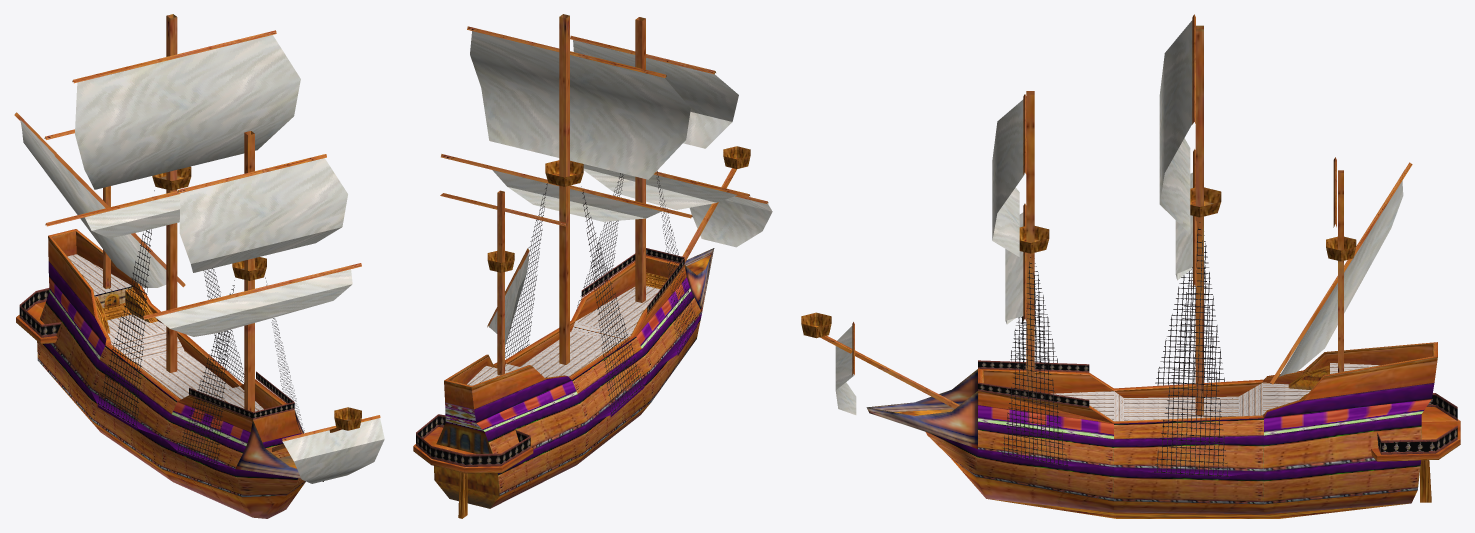
Rendered from Galleon1.FBX.
3 views of the same model, side by side, from view 1: azimuth 30°, elevation 25°; view 2: azimuth 150°, elevation 25°; view 3: azimuth 270°, elevation 25° (orthographic). The views are drawn at different scales.
Visible parts, largest first — view 1: Galleon; view 2: Galleon; view 3: Galleon.
Boxes of the visible parts, x1=… form: Galleon: x1=14, y1=14, x2=384, y2=518; Galleon: x1=413, y1=14, x2=772, y2=518; Galleon: x1=801, y1=14, x2=1460, y2=518.
Size of the model in its own units: 2331 by 3928 by 4775.
